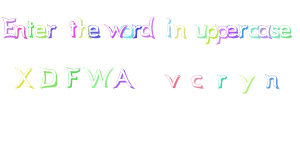A: (113, 64, 139, 91)
D: (38, 63, 61, 94)
E: (1, 10, 19, 40)
F: (62, 63, 83, 91)
W: (82, 64, 113, 90)
X: (9, 60, 38, 93)
a: (256, 21, 272, 43)
c: (186, 70, 210, 95), (247, 20, 261, 41)
d: (139, 13, 156, 39)
e: (277, 19, 296, 42), (86, 21, 102, 41), (34, 20, 47, 41), (225, 22, 239, 39)
h: (77, 11, 91, 40)
i: (161, 15, 175, 40)
n: (259, 65, 289, 98), (173, 21, 189, 42), (13, 23, 28, 41)
o: (119, 19, 135, 42)
p: (213, 22, 230, 47), (204, 23, 219, 47)
r: (209, 71, 234, 95), (45, 18, 62, 41), (129, 19, 143, 40), (235, 21, 249, 41)
s: (268, 19, 282, 42)
t: (66, 18, 79, 39), (26, 16, 36, 39)
u: (192, 21, 208, 39)
v: (160, 69, 186, 93)
w: (102, 18, 125, 40)
y: (235, 67, 259, 98)
